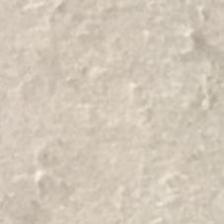Non_Crack: (2, 2, 224, 224)
